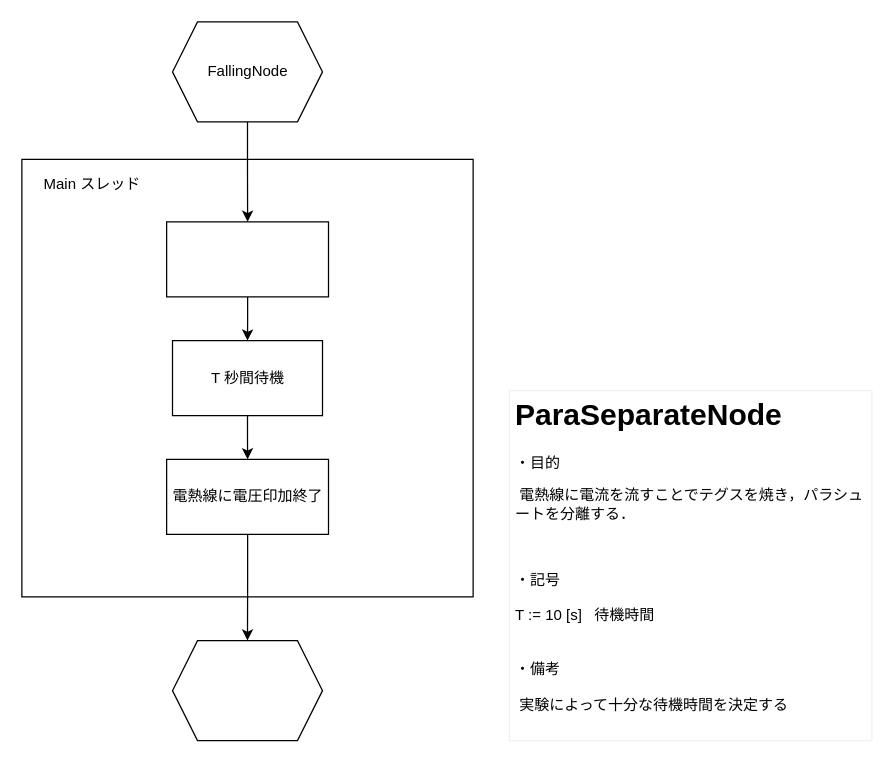
The diagram is 894 pixels wide and 763 high, and some of its shapes have lost their labels. The shapes that lost their labels are listed below. From the top down, each one's centre as x and y in pixels, then its label:
At pixel 246 259: "電熱線に電圧印加開始".
At pixel 246 690: "FirstRunningNode".
